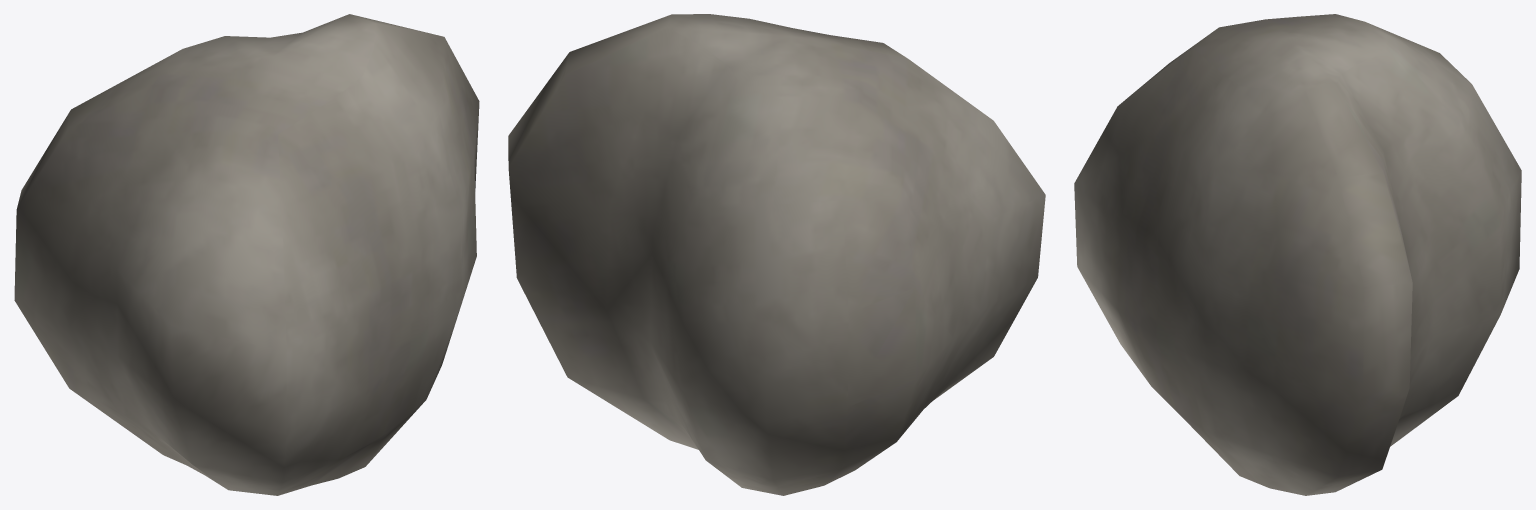
The model's file is pebble_04.glb.
3 renders of one model, left to right at view 1: azimuth 30°, elevation 25°; view 2: azimuth 150°, elevation 25°; view 3: azimuth 270°, elevation 25°, orthographic.
Parts seen in each view (by area): view 1: pebble_04; view 2: pebble_04; view 3: pebble_04.
Boxes of the visible parts, x1,y1,x2,y2 form: pebble_04: [14, 14, 479, 495]; pebble_04: [508, 14, 1045, 495]; pebble_04: [1074, 14, 1521, 495].
Size of the model in its own units: 2.1 by 1.96 by 1.88.
1 material, 1 textured.
